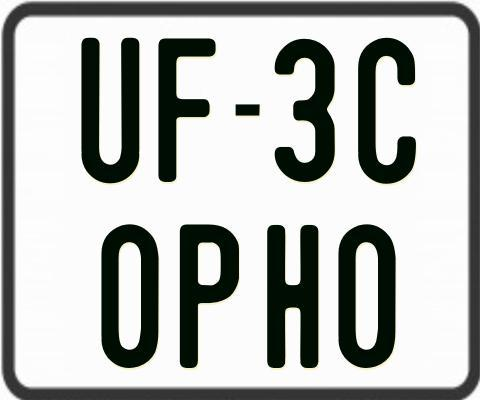0: (99, 222, 157, 372), (337, 221, 396, 366)
3: (273, 37, 334, 184)
C: (357, 35, 420, 185)
F: (158, 38, 219, 183)
H: (267, 225, 323, 372)
P: (177, 224, 242, 372)
U: (81, 38, 139, 184)
